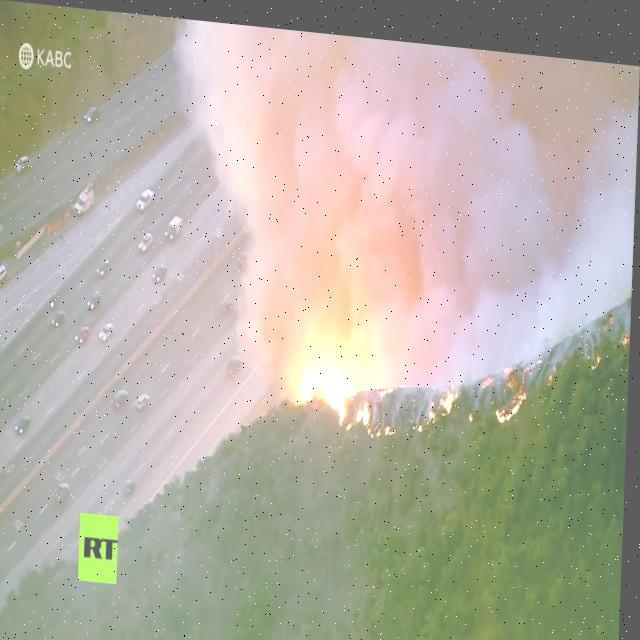Fire: (305, 348, 352, 418), (352, 396, 401, 432), (430, 372, 460, 423), (496, 386, 523, 415)
